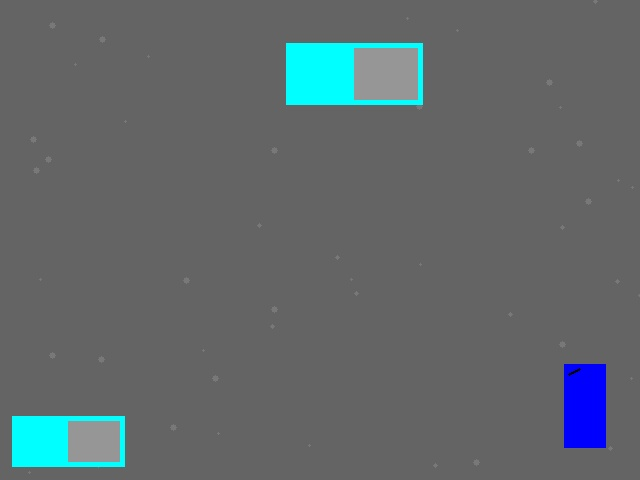motorcycle: (564, 364, 605, 447)
truck: (286, 43, 422, 104), (12, 416, 124, 466)
